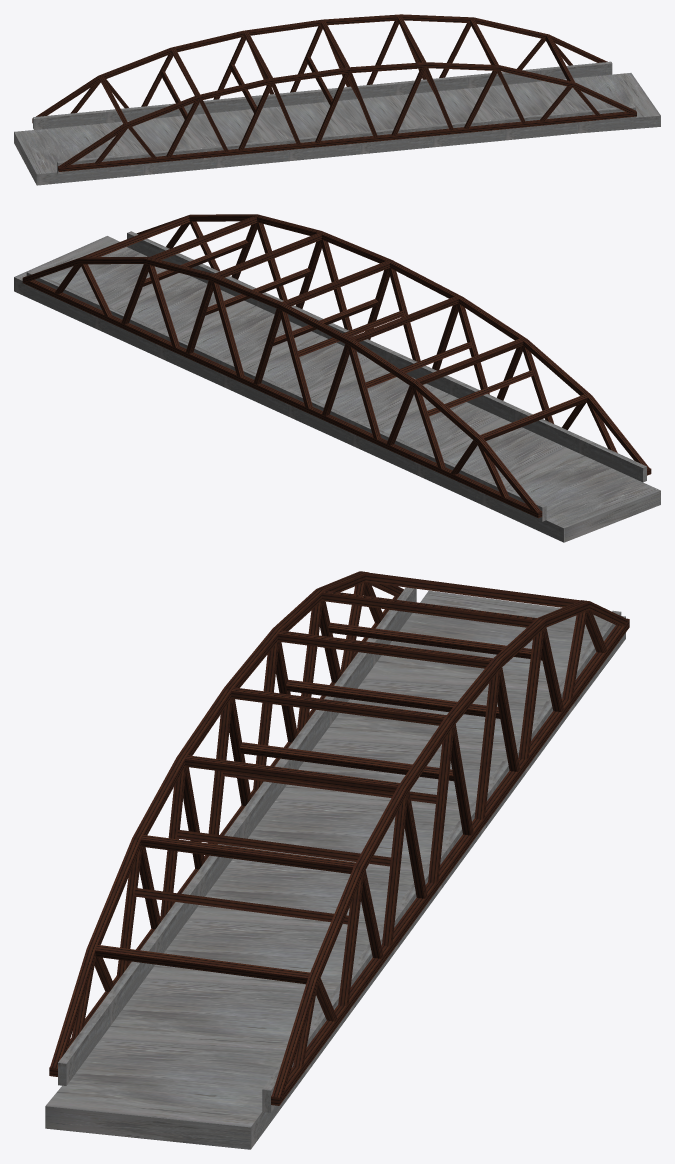
File: tunnel.fbx
3 views of the same model, one above another, from view 1: azimuth 30°, elevation 25°; view 2: azimuth 150°, elevation 25°; view 3: azimuth 270°, elevation 25° (orthographic). The views are drawn at different scales.
Parts seen in each view (by area): view 1: S2_MetalBridge; view 2: S2_MetalBridge; view 3: S2_MetalBridge.
Part boxes in pixels (left/top/right/bottom): S2_MetalBridge: left=14, top=14, right=660, bottom=185; S2_MetalBridge: left=14, top=214, right=660, bottom=542; S2_MetalBridge: left=45, top=571, right=629, bottom=1149.
Bounding box in the file's own units: 14245 × 2231 × 6556.
